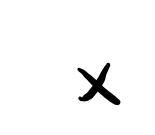mult: (77, 63, 121, 105)
